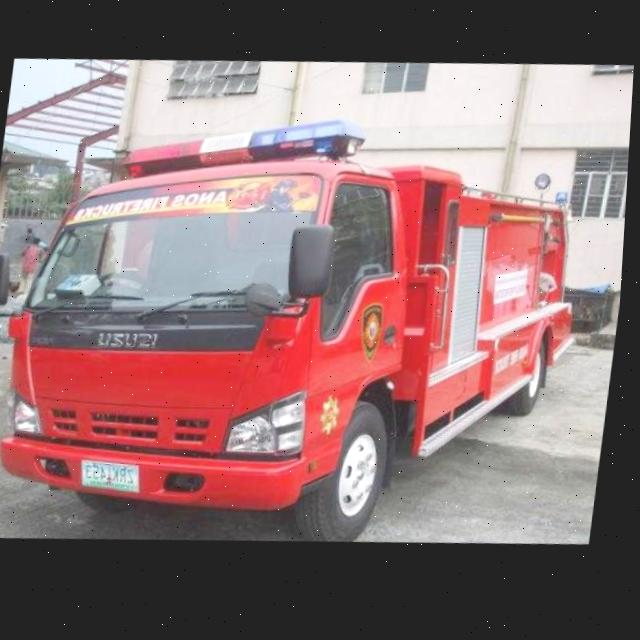emergency: (0, 87, 605, 577)
